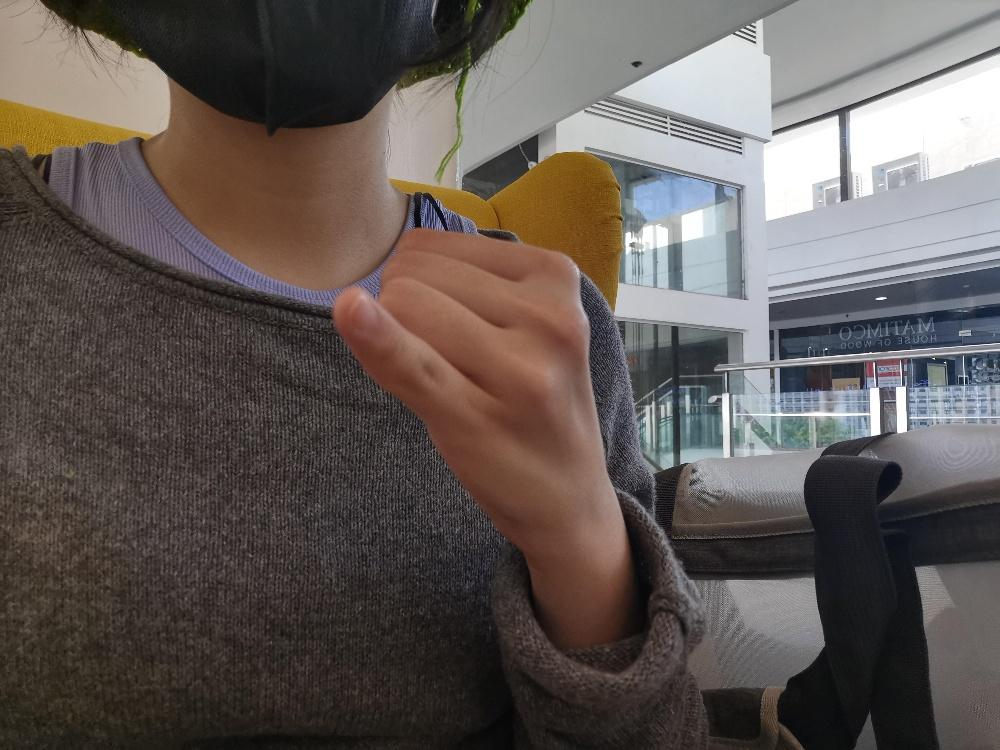j: (330, 224, 616, 553)
